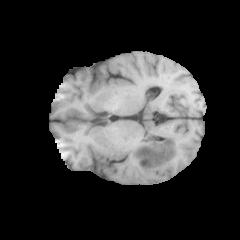glioma: (131, 136, 179, 175)
